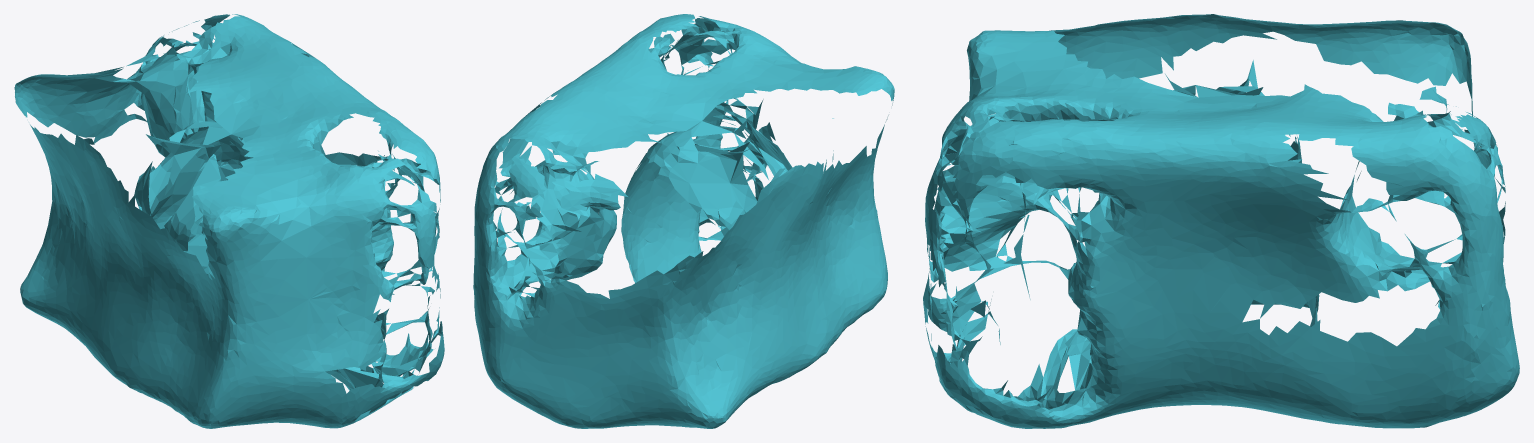
3 renders of one model, left to right at view 1: azimuth 30°, elevation 25°; view 2: azimuth 150°, elevation 25°; view 3: azimuth 270°, elevation 25°, orthographic. The views are drawn at different scales.
Visible parts, largest first — view 1: Renderer Node; view 2: Renderer Node; view 3: Renderer Node.
Part boxes in pixels (x1,y1,x2,y2): Renderer Node: [14, 14, 444, 428]; Renderer Node: [473, 14, 894, 428]; Renderer Node: [923, 14, 1519, 428].
Bounding box in the file's own units: 0.4254 × 0.4336 × 0.7266.
Materials: 1 (1 with a texture image).
